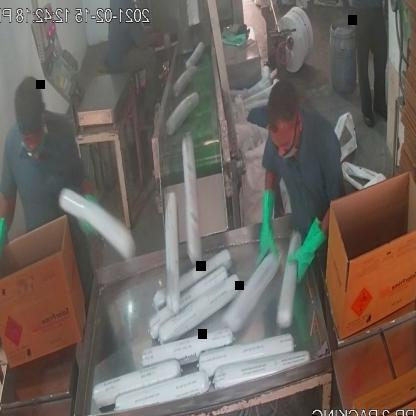glove: (250, 176, 286, 281), (284, 210, 328, 294), (0, 203, 13, 292)
